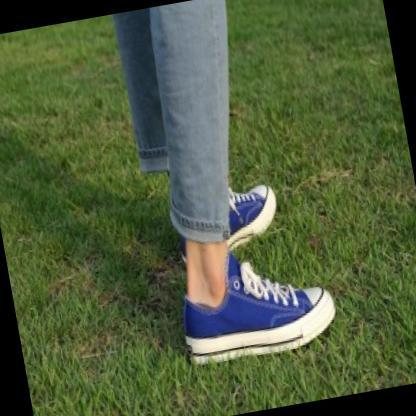no_safety-shoe: (162, 251, 350, 386), (206, 184, 297, 244)
